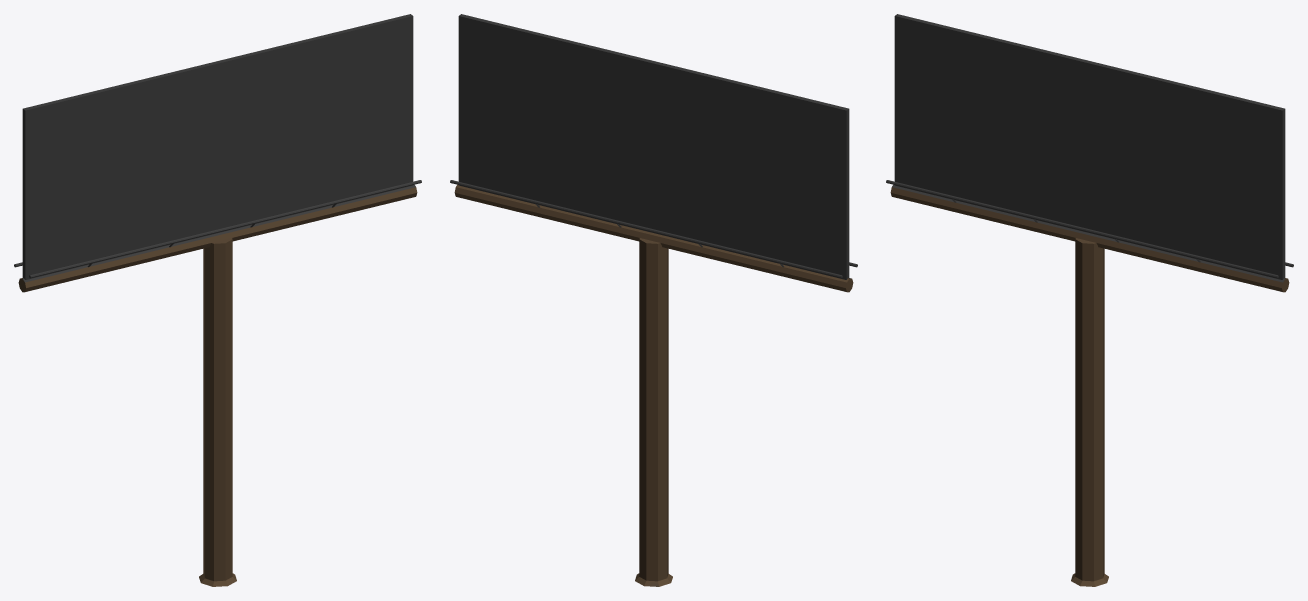
Rendered from SM_advertising_board.FBX.
3 renders of one model, left to right at view 1: azimuth 30°, elevation 25°; view 2: azimuth 150°, elevation 25°; view 3: azimuth 330°, elevation 25°, orthographic.
Visible parts, largest first — view 1: sm_advertising_board; view 2: sm_advertising_board; view 3: sm_advertising_board.
Boxes of the visible parts, box(x1,y1,x2,y2) form: sm_advertising_board: box(14, 14, 421, 586); sm_advertising_board: box(450, 14, 857, 586); sm_advertising_board: box(886, 14, 1293, 586).
Bounding box in the file's own units: 600 × 757 × 52.77.
